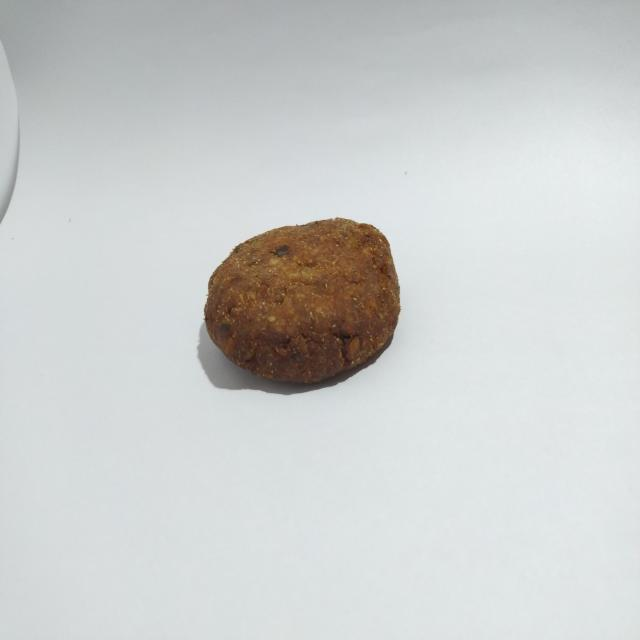Food: (192, 198, 408, 404)
